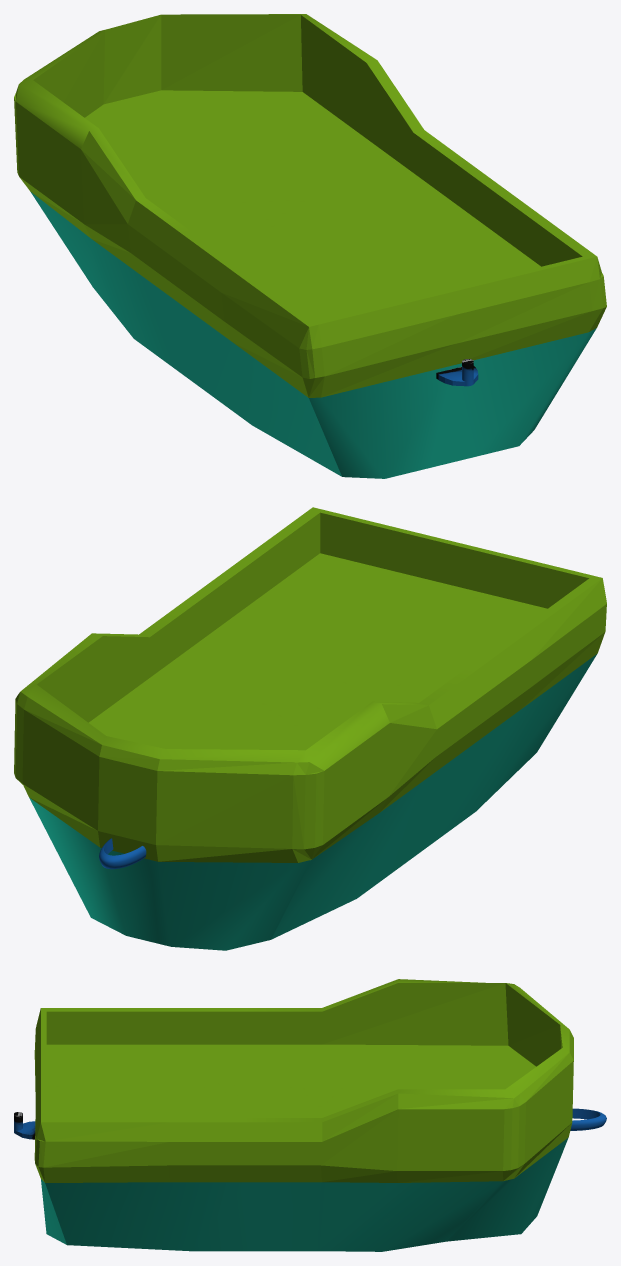
The model's file is Sturdy Hulk.FBX.
3 renders of one model, top to bottom at view 1: azimuth 30°, elevation 25°; view 2: azimuth 150°, elevation 25°; view 3: azimuth 270°, elevation 25°, orthographic. The views are drawn at different scales.
Parts seen in each view (by area): view 1: sturdy hulk, Anhänger back; view 2: sturdy hulk, Anhänger front; view 3: sturdy hulk, Anhänger front, Anhänger back.
Boxes of the visible parts, x1,y1,x2,y2 form: sturdy hulk: (14, 14, 606, 478); Anhänger back: (436, 359, 478, 386); sturdy hulk: (14, 507, 606, 950); Anhänger front: (99, 838, 146, 869); sturdy hulk: (34, 979, 573, 1251); Anhänger front: (570, 1108, 606, 1130); Anhänger back: (14, 1112, 35, 1139).
Bounding box in the file's own units: 11.41 × 7.43 × 23.45.
